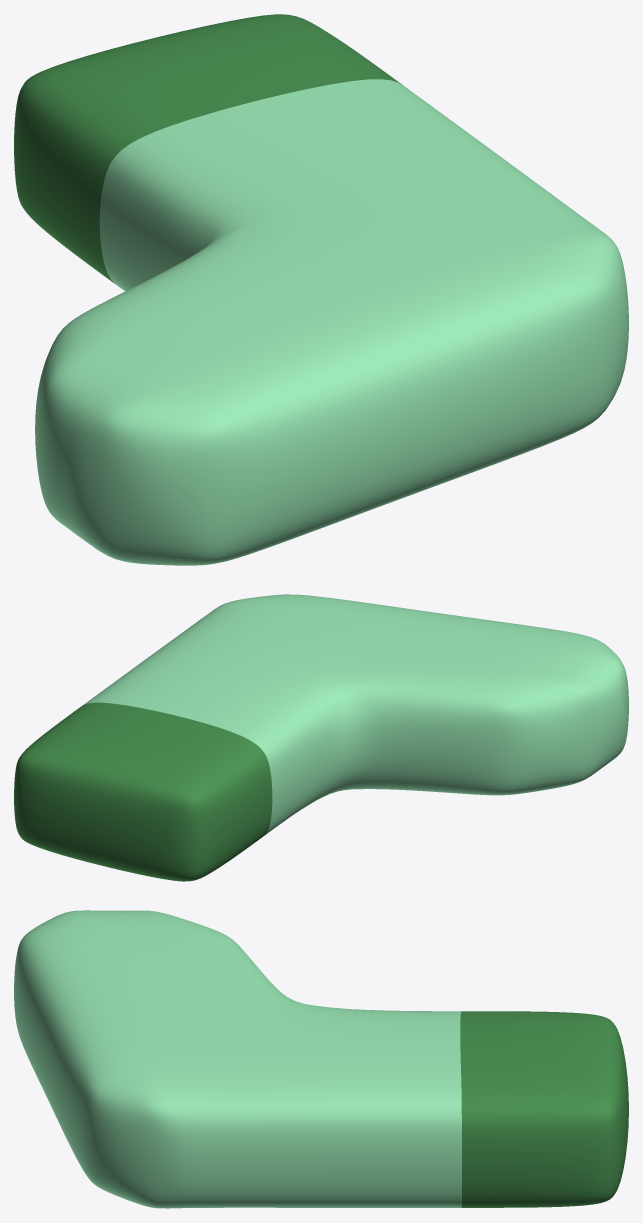
File: sock.gltf
The picture shows the model from 3 angles, top to bottom: view 1: azimuth 30°, elevation 25°; view 2: azimuth 150°, elevation 25°; view 3: azimuth 270°, elevation 25°; orthographic projection. The views are drawn at different scales.
Parts seen in each view (by area): view 1: Plane.007; view 2: Plane.007; view 3: Plane.007.
Part boxes in pixels (left/top/right/bottom): Plane.007: left=14, top=14, right=628, bottom=565; Plane.007: left=14, top=594, right=628, bottom=881; Plane.007: left=14, top=910, right=628, bottom=1208.
Bounding box in the file's own units: 0.2556 × 0.0717 × 0.3155.
